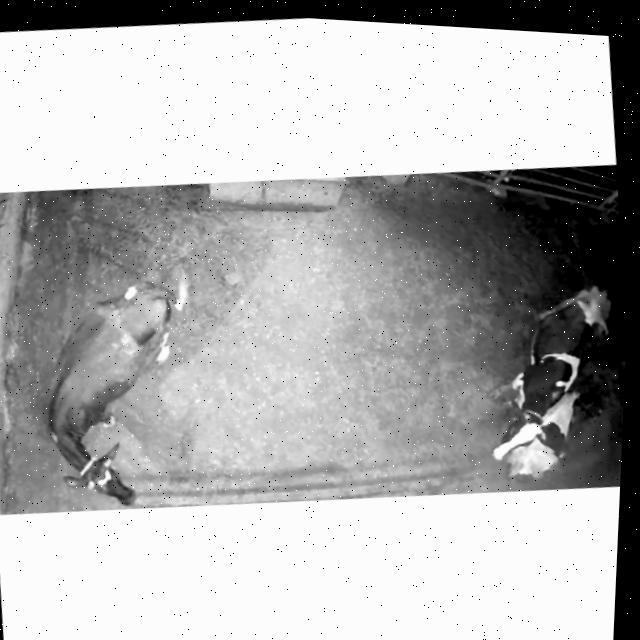stand: (8, 246, 249, 524), (451, 253, 630, 493)
